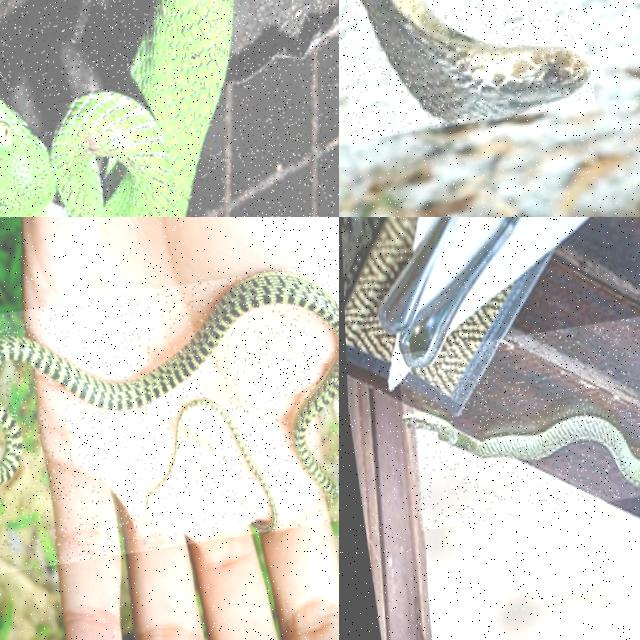Chrysopelea ornata: (0, 270, 338, 506), (404, 411, 639, 487)
Naja siamensis: (362, 0, 590, 122)
Trimeresurus macrops: (0, 0, 232, 216)
snake: (0, 270, 338, 506), (0, 0, 232, 216), (362, 0, 590, 122), (404, 411, 639, 487)
